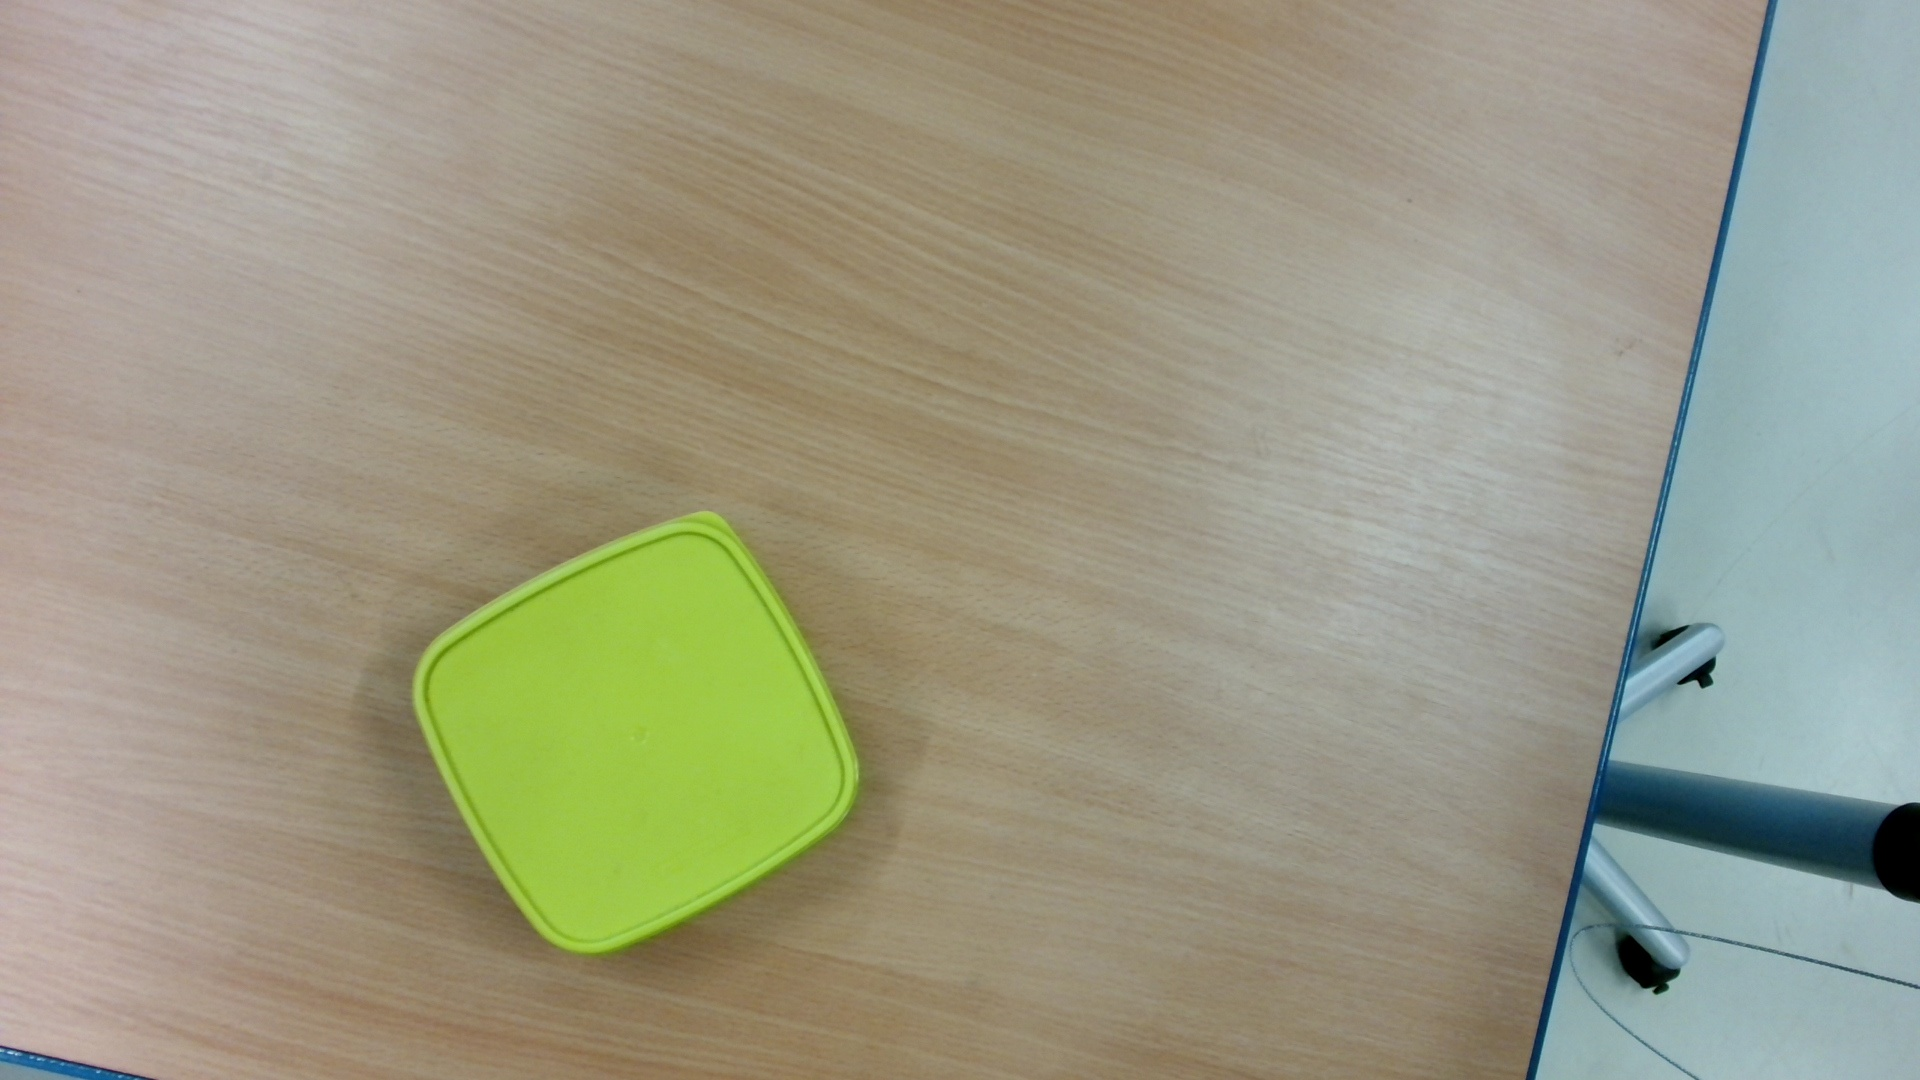Box: (404, 502, 876, 971)
